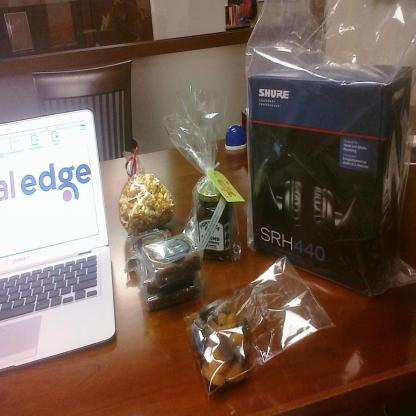board: (0, 107, 116, 376), (197, 183, 232, 259)
